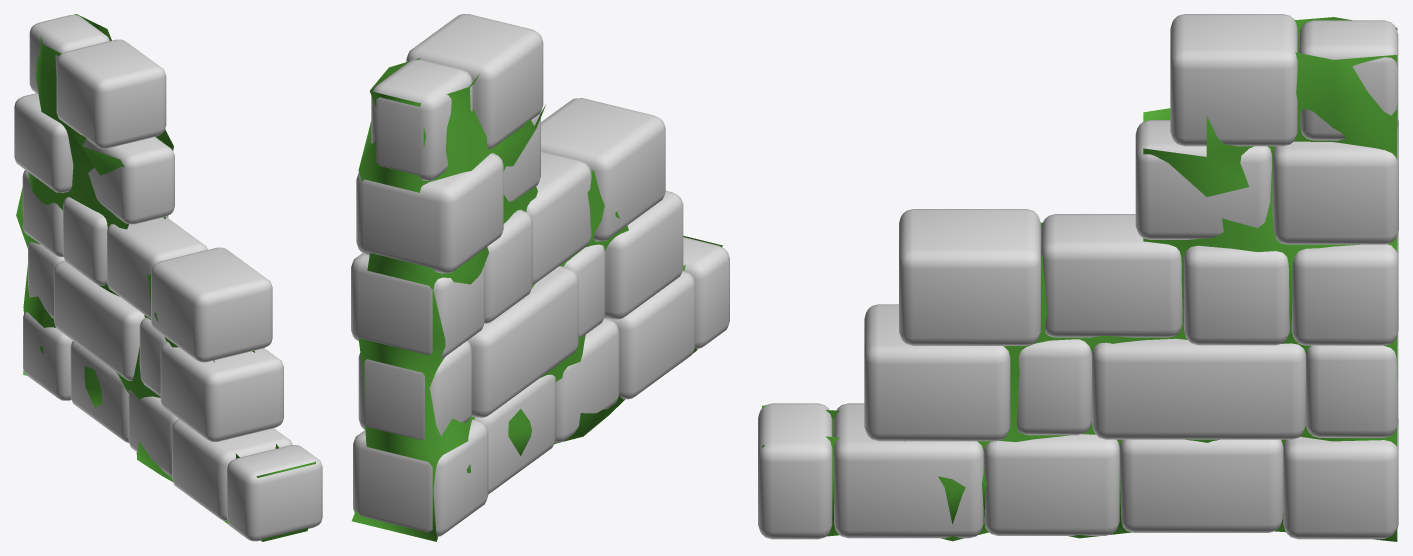
Rendered from walls_end_future.fbx.
3 views of the same model, side by side, from view 1: azimuth 30°, elevation 25°; view 2: azimuth 150°, elevation 25°; view 3: azimuth 270°, elevation 25° (orthographic). The views are drawn at different scales.
Visible parts, largest first — view 1: Cube.014; view 2: Cube.014; view 3: Cube.014.
Boxes of the visible parts, left/top/right/bottom form: Cube.014: left=14, top=14, right=322, bottom=541; Cube.014: left=351, top=14, right=729, bottom=541; Cube.014: left=758, top=14, right=1398, bottom=541.
Bounding box in the file's own units: 0.3913 × 1.53 × 1.83.
